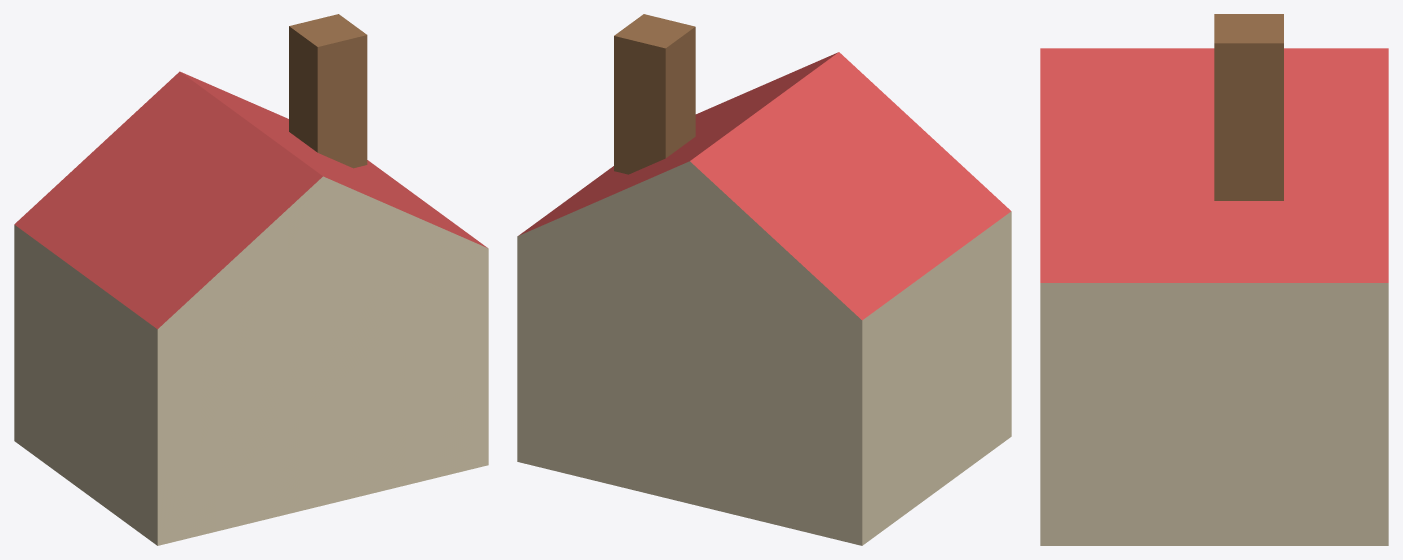
Rendered from toy-house-clean.glb.
The picture shows the model from 3 angles, left to right: view 1: azimuth 30°, elevation 25°; view 2: azimuth 150°, elevation 25°; view 3: azimuth 270°, elevation 25°; orthographic projection. The views are drawn at different scales.
Parts seen in each view (by area): view 1: house, chimney; view 2: house, chimney; view 3: house, chimney.
Part boxes in pixels (<box>): house: <box>14,71,488,545</box>; chimney: <box>289,14,367,168</box>; house: <box>517,52,1011,545</box>; chimney: <box>614,14,695,174</box>; house: <box>1040,48,1388,545</box>; chimney: <box>1214,14,1283,200</box>.
Bounding box in the file's own units: 4 × 4.5 × 3.
